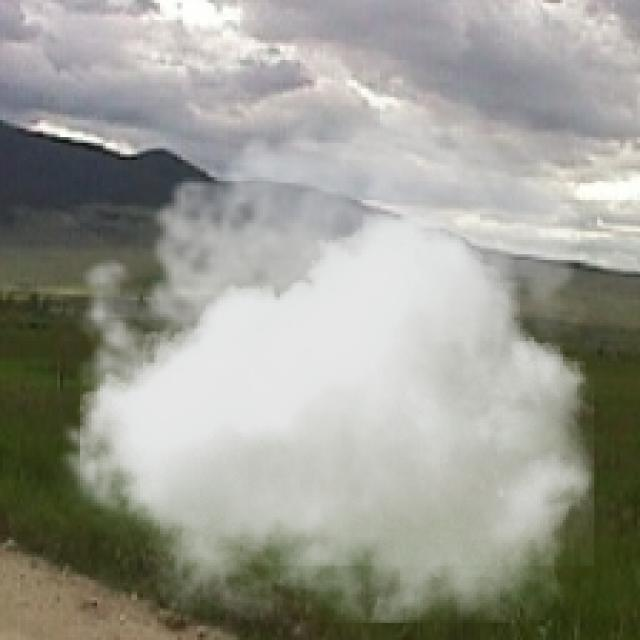Smoke: (46, 68, 594, 623)
